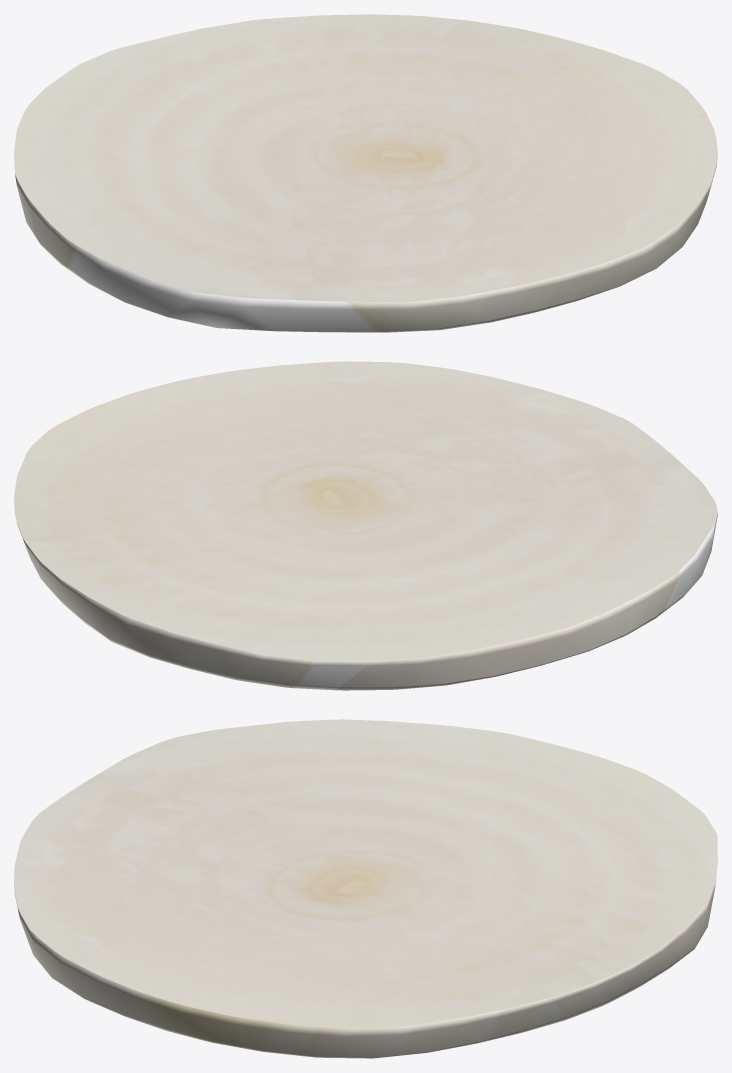
File: onion_slice.obj
3 renders of one model, top to bottom at view 1: azimuth 30°, elevation 25°; view 2: azimuth 150°, elevation 25°; view 3: azimuth 270°, elevation 25°, orthographic. The views are drawn at different scales.
Visible parts, largest first — view 1: Icosphere_Icosphere.001; view 2: Icosphere_Icosphere.001; view 3: Icosphere_Icosphere.001.
Part boxes in pixels (x1=…): Icosphere_Icosphere.001: x1=14, y1=14, x2=717, y2=332; Icosphere_Icosphere.001: x1=14, y1=361, x2=717, y2=690; Icosphere_Icosphere.001: x1=14, y1=719, x2=717, y2=1058.
Size of the model in its own units: 2.09 by 0.1108 by 2.01.
